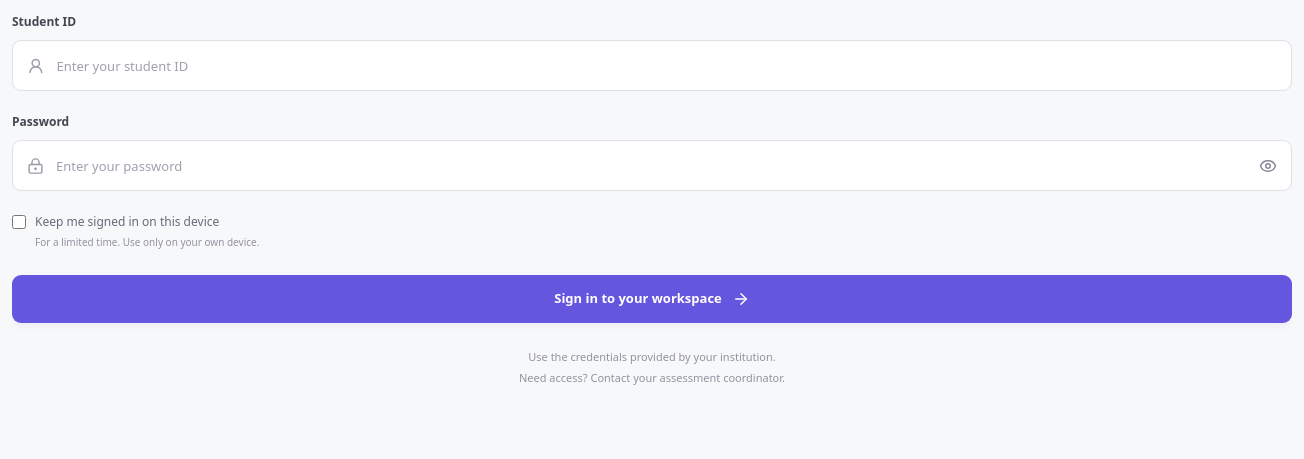
it: student login form › renders credential and network errors without navigating
Type "TEST-100" into the field labelled "Student ID".
click(667, 66); type("TEST-100")  # box [57, 41, 1277, 90]
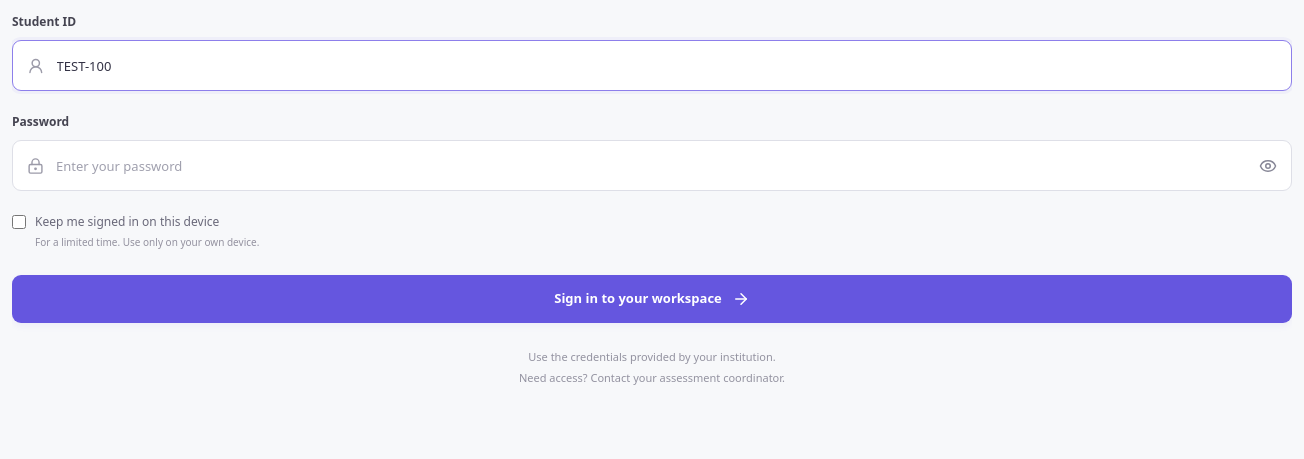
Type "test-password" into the password field labelled "Password".
click(648, 166); type("test-password")  # box [56, 141, 1240, 190]
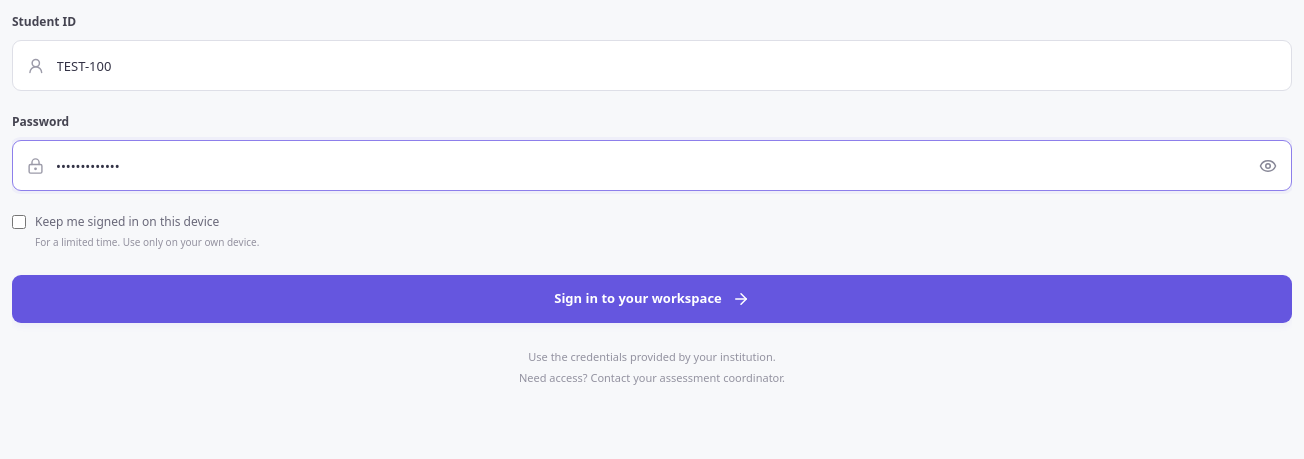
Click the button "Sign in to your workspace".
click(652, 299)  # box [12, 275, 1292, 323]
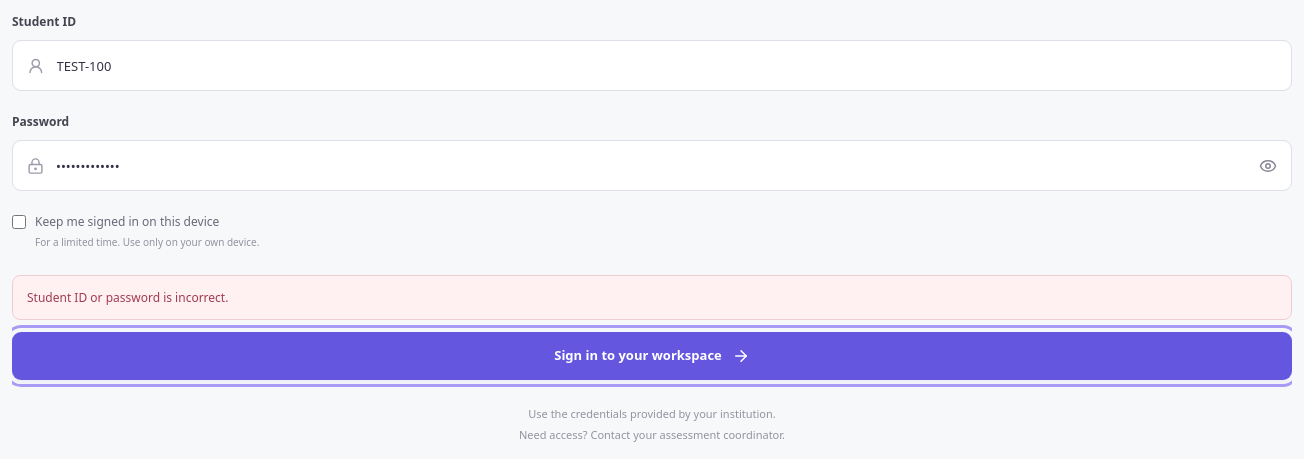
Result: the message reads "Student ID or password is incorrect." at [27, 289, 228, 306]
